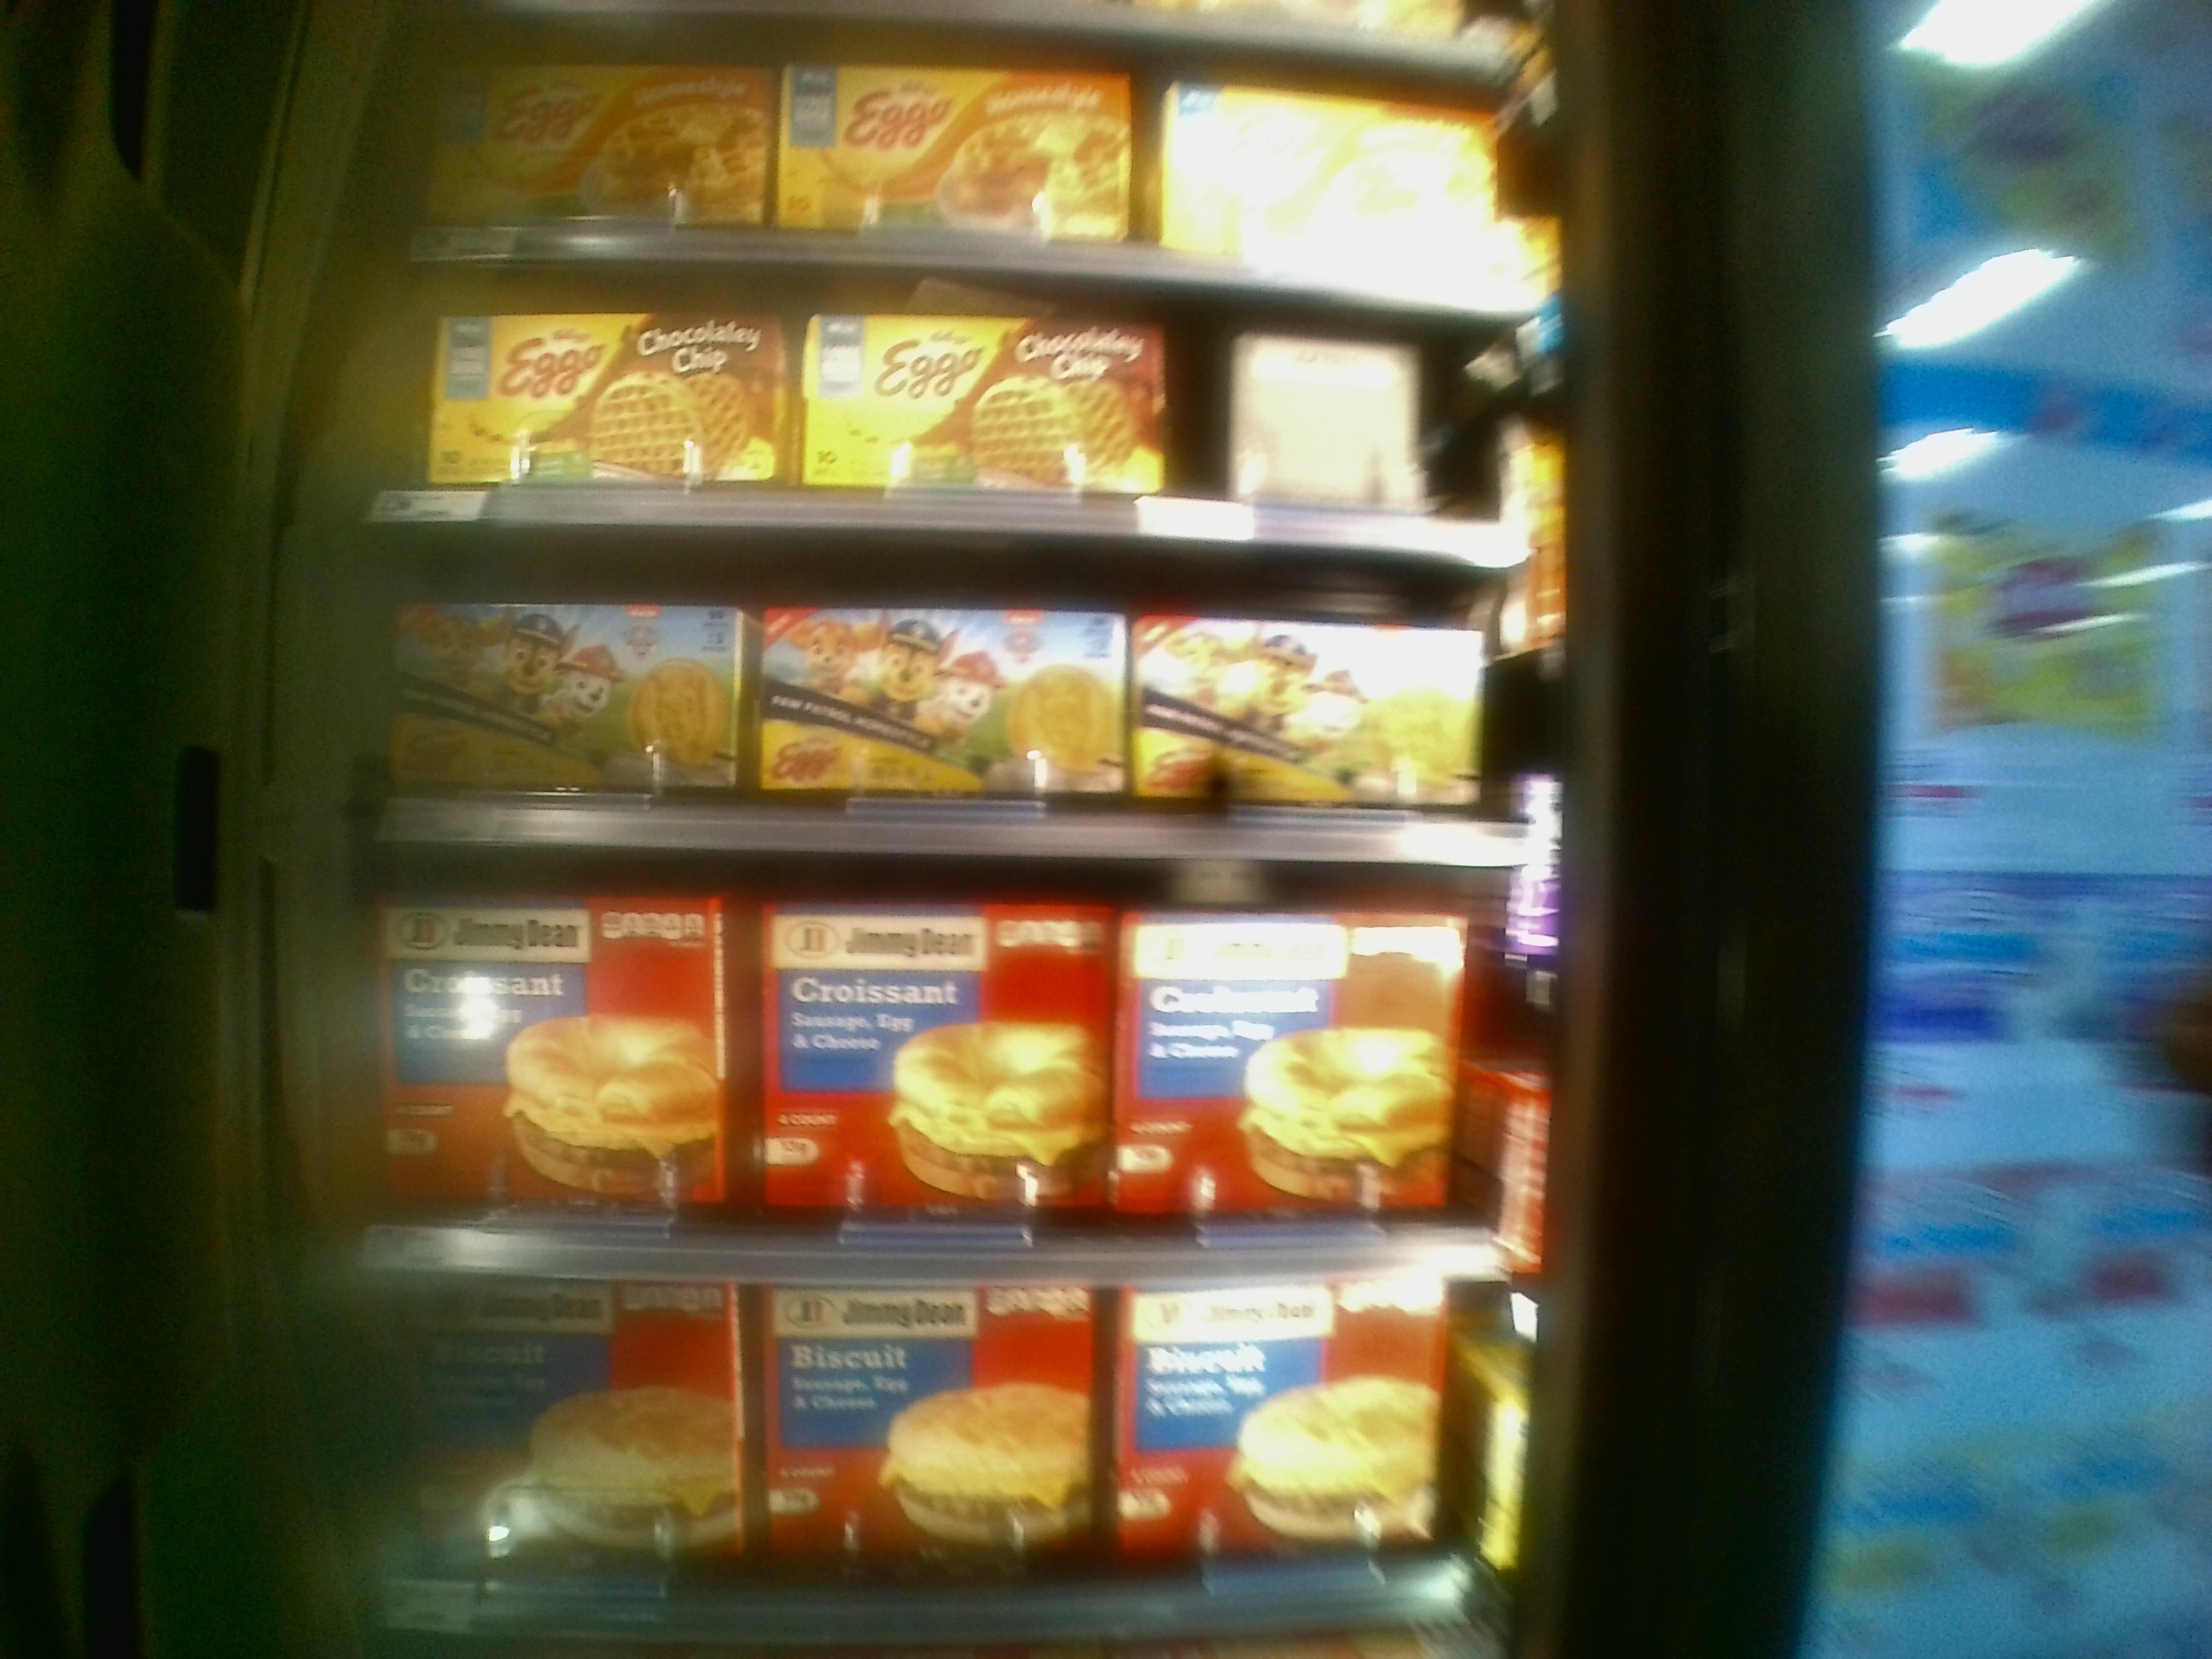shelf: (381, 847, 1519, 1279), (366, 526, 1559, 871), (387, 1279, 1519, 1640), (366, 251, 1548, 547)
